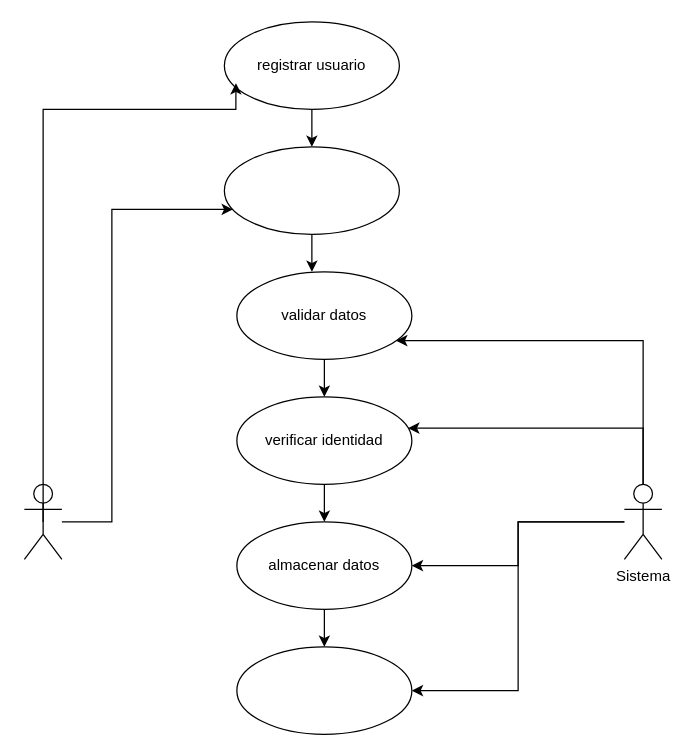
The diagram is 691 pixels wide and 756 high, and some of its shapes have lost their labels. The box of each missing label's shape, as (x1, y1, x2, y2) in pixels:
Admin: (23, 483, 62, 559)
llenar formulario: (223, 146, 399, 234)
Registrar usuarios: (236, 646, 412, 734)
